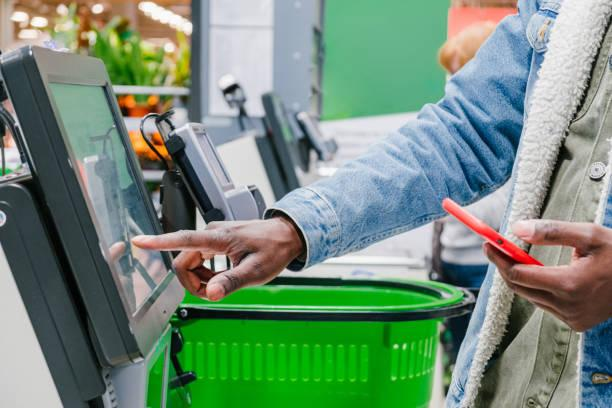Cart: (172, 277, 474, 407)
cage: (174, 277, 473, 407)
